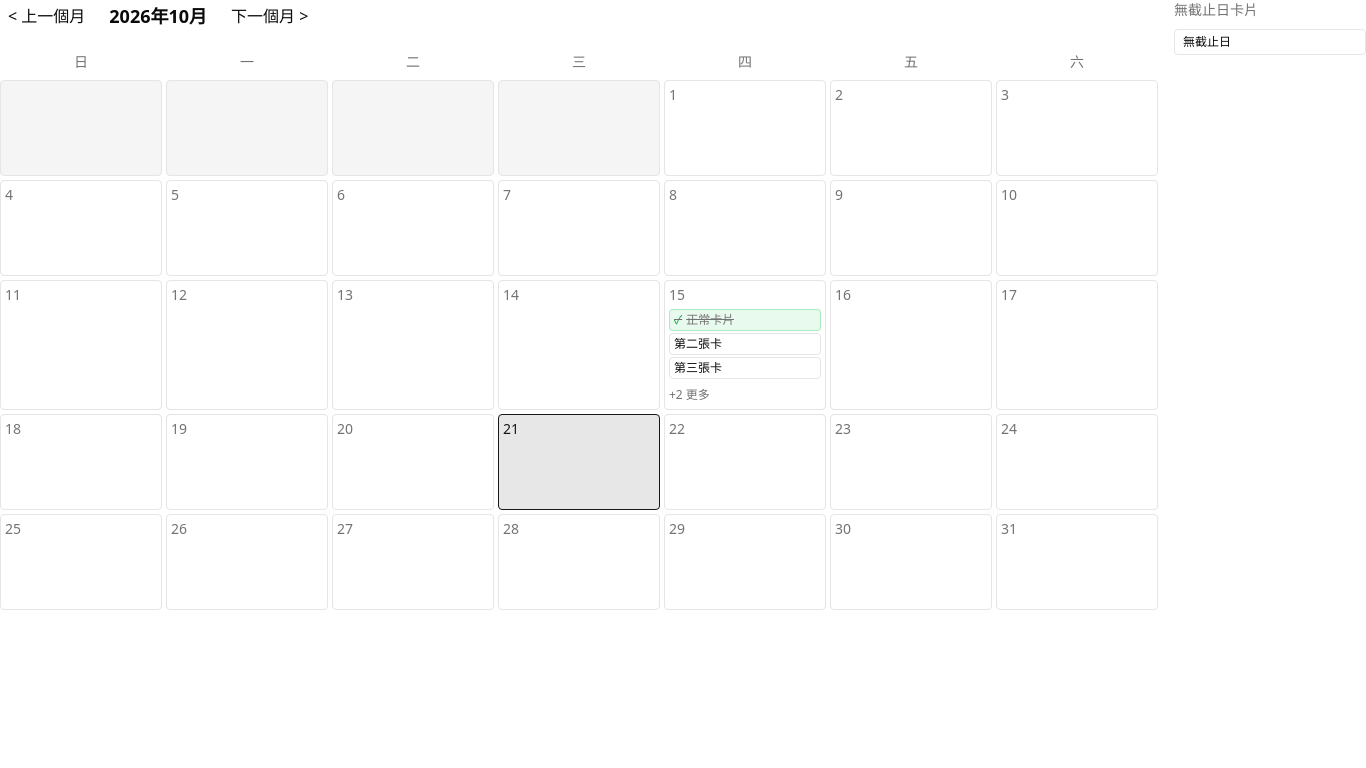
it: CalendarTab 更多 popover › popover 內的隱藏卡片顯示審查狀態圖示
Click the button "+2 更多" at (689, 395), box [669,387,710,403]
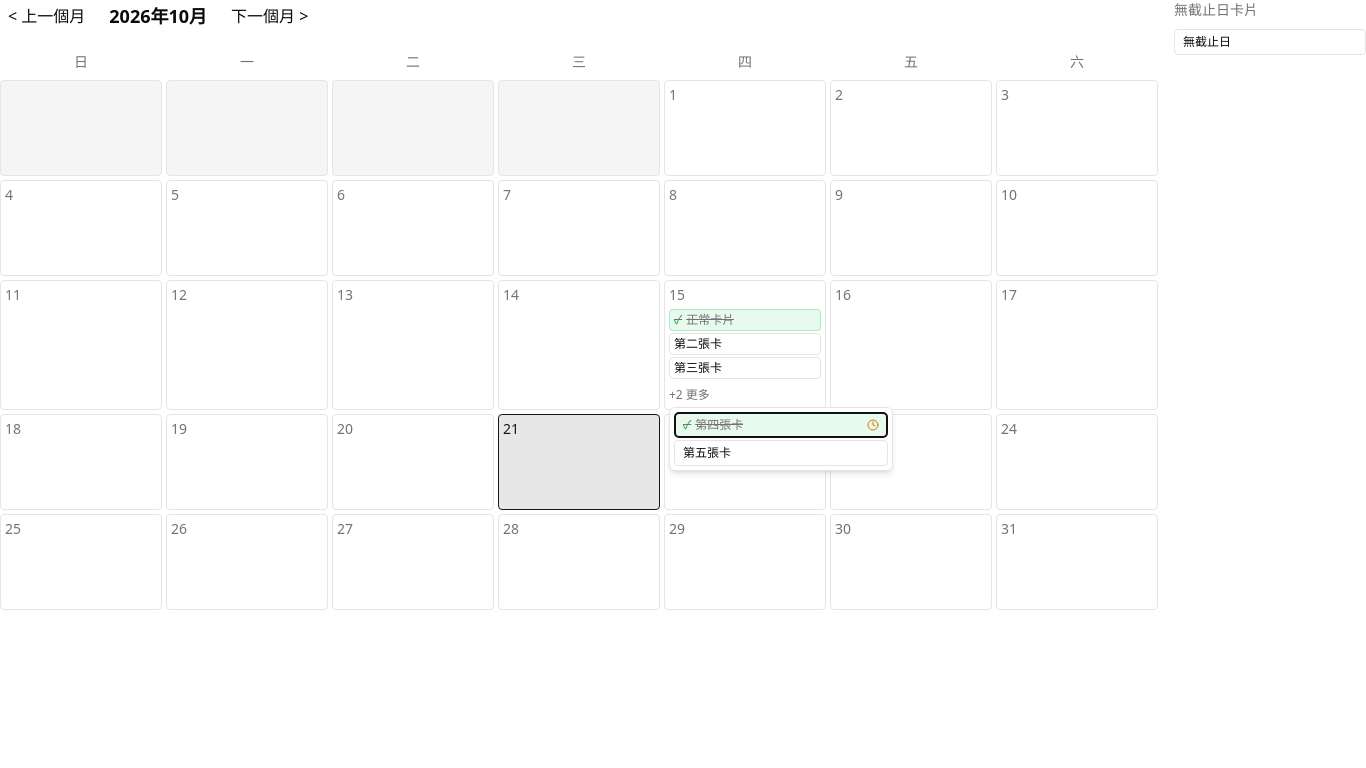
Check: the icon named "審查狀態：待審查" is shown, box [867,419,879,431]
